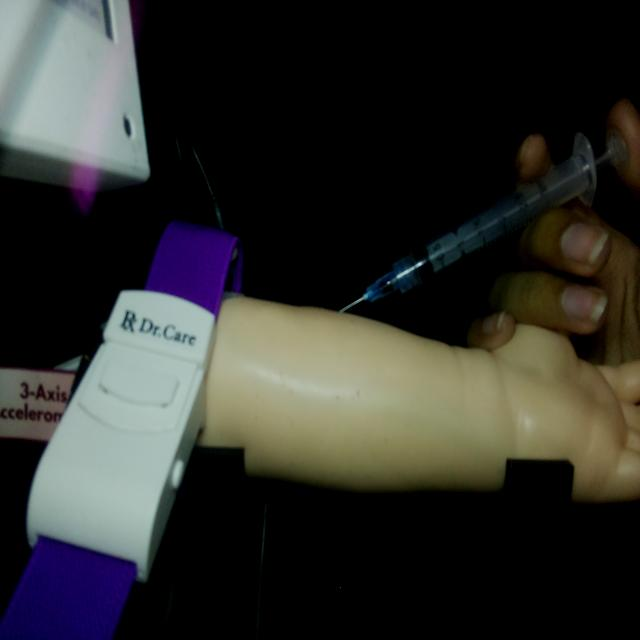22 degrees: (337, 124, 629, 316)
